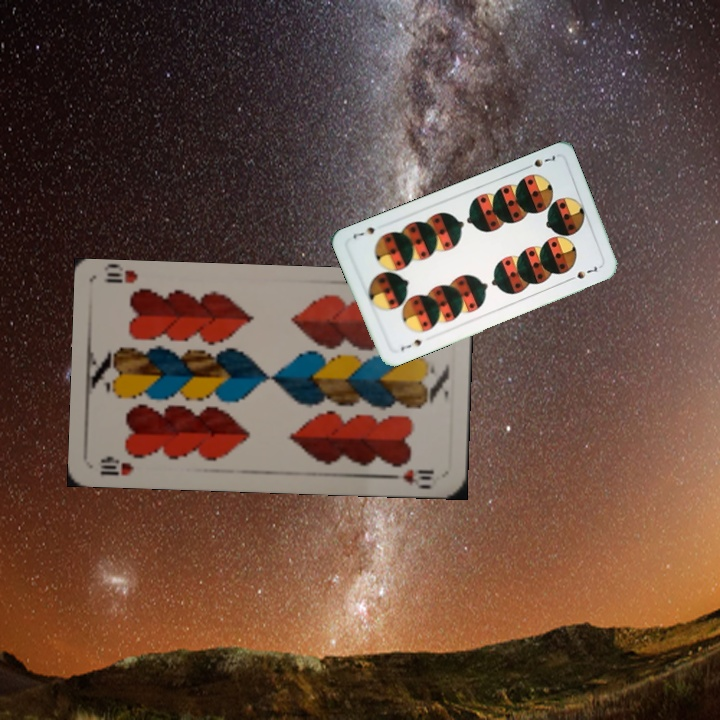H10: (96, 452, 136, 479)
S7: (520, 150, 558, 172), (396, 335, 424, 354)
